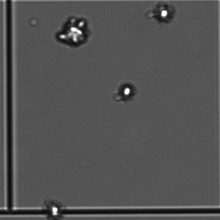Living Cell: (53, 13, 95, 48), (111, 78, 140, 103), (150, 1, 178, 24), (41, 197, 68, 218)
